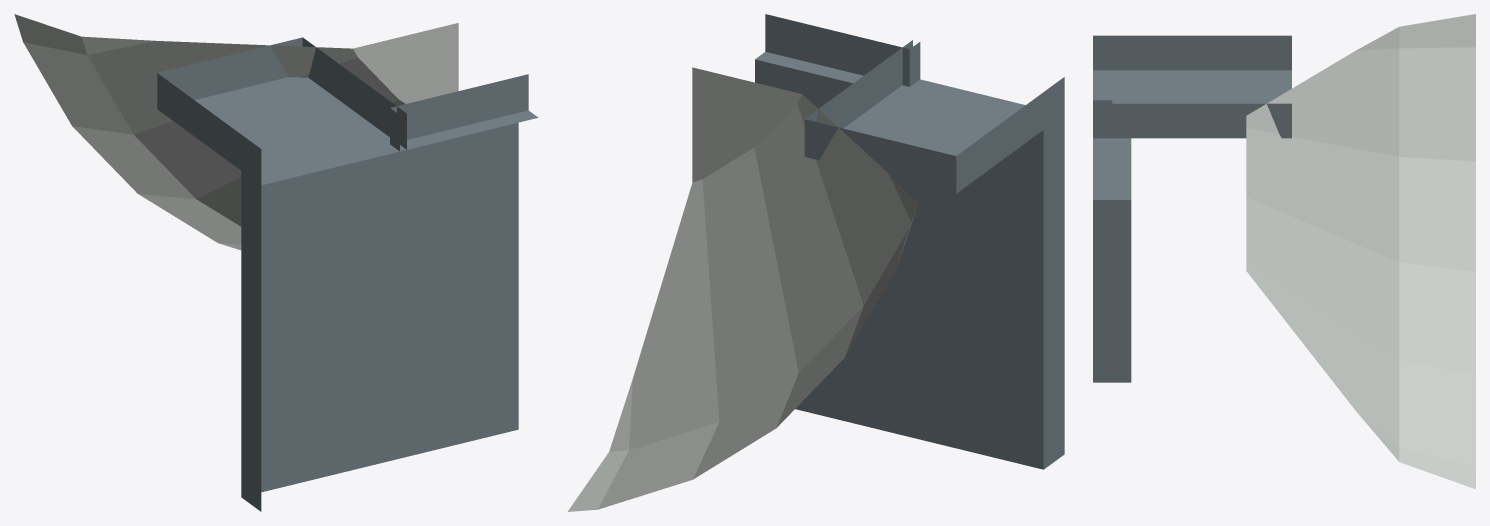
File: cell_81.obj
3 renders of one model, left to right at view 1: azimuth 30°, elevation 25°; view 2: azimuth 150°, elevation 25°; view 3: azimuth 270°, elevation 25°, orthographic. The views are drawn at different scales.
Size of the model in its own units: 0.9349 by 1 by 1.
